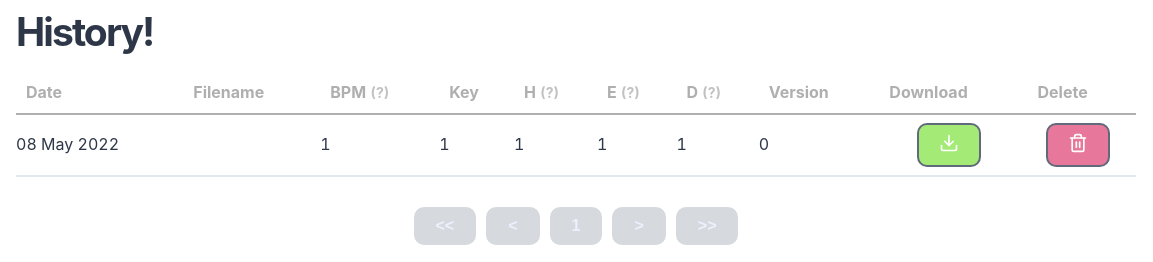
Scenario: History authorized › Check uploads and delete
Expected: the table with id "resultTable" is shown, [16,72,1136,177]
Click the button with id "delete1" at (1078, 145), box [1046,123,1110,167]
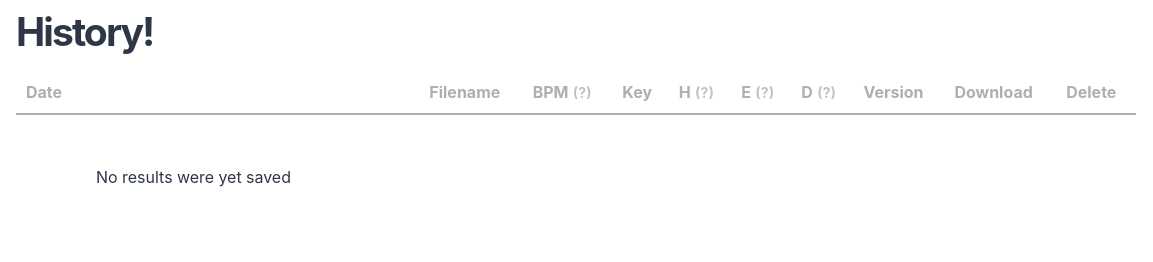
Now the text "No results were yet saved" is shown, box [96,167,291,187]
